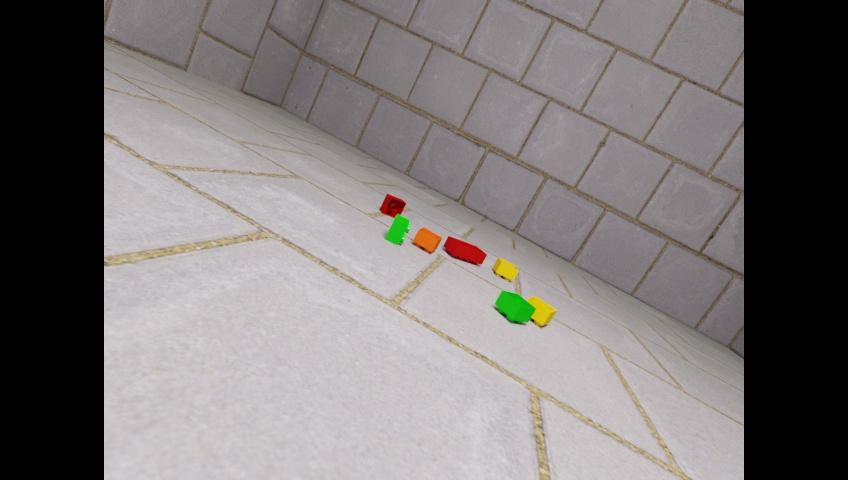2x2_green: (494, 289, 535, 323), (384, 213, 410, 245)
2x2_orange: (413, 227, 443, 255)
2x2_red: (379, 193, 405, 217)
2x2_yellow: (526, 296, 556, 326), (494, 256, 518, 280)
4x2_red: (443, 235, 486, 265)
